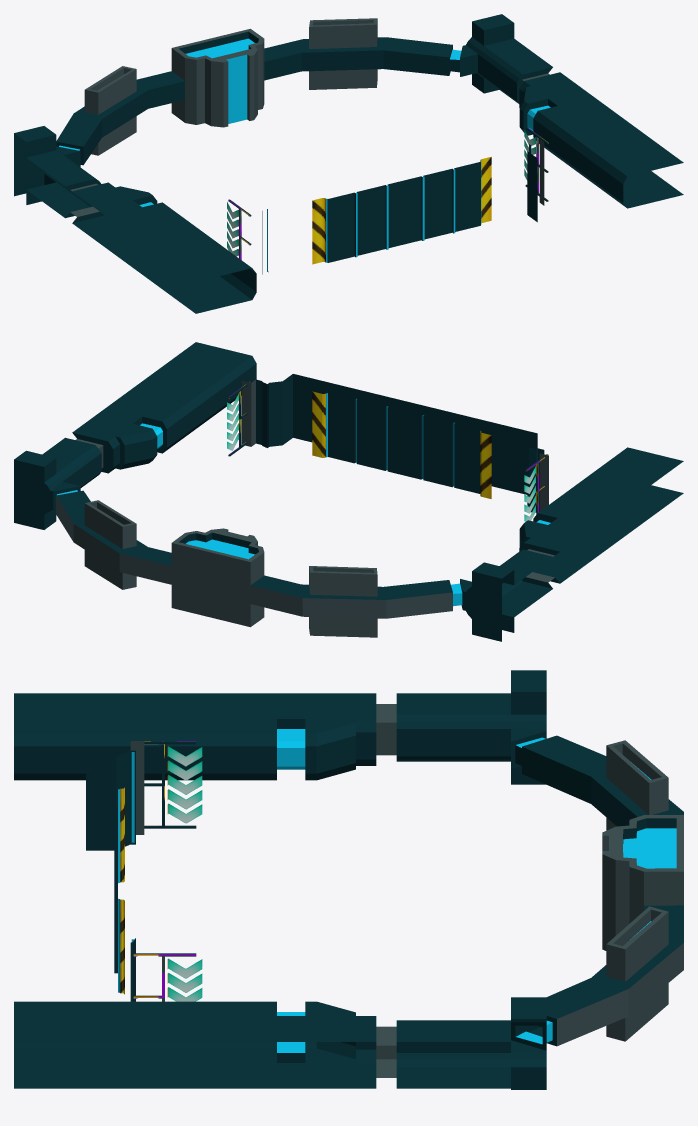
Rendered from Tunel_azul.fbx.
3 views of the same model, one above another, from view 1: azimuth 30°, elevation 25°; view 2: azimuth 150°, elevation 25°; view 3: azimuth 270°, elevation 25° (orthographic). The views are drawn at different scales.
Visible parts, largest first — view 1: Pista_azul.001, Pista_azul.002; view 2: Pista_azul.001, Pista_azul.002; view 3: Pista_azul.001, Pista_azul.002.
Boxes of the visible parts, x1,y1,x2,y2 form: Pista_azul.001: (14, 14, 683, 313); Pista_azul.002: (227, 130, 535, 256); Pista_azul.001: (14, 342, 683, 641); Pista_azul.002: (227, 393, 535, 521); Pista_azul.001: (14, 670, 683, 1089); Pista_azul.002: (167, 746, 202, 1001).
Bounding box in the file's own units: 1594 × 203 × 1295.
